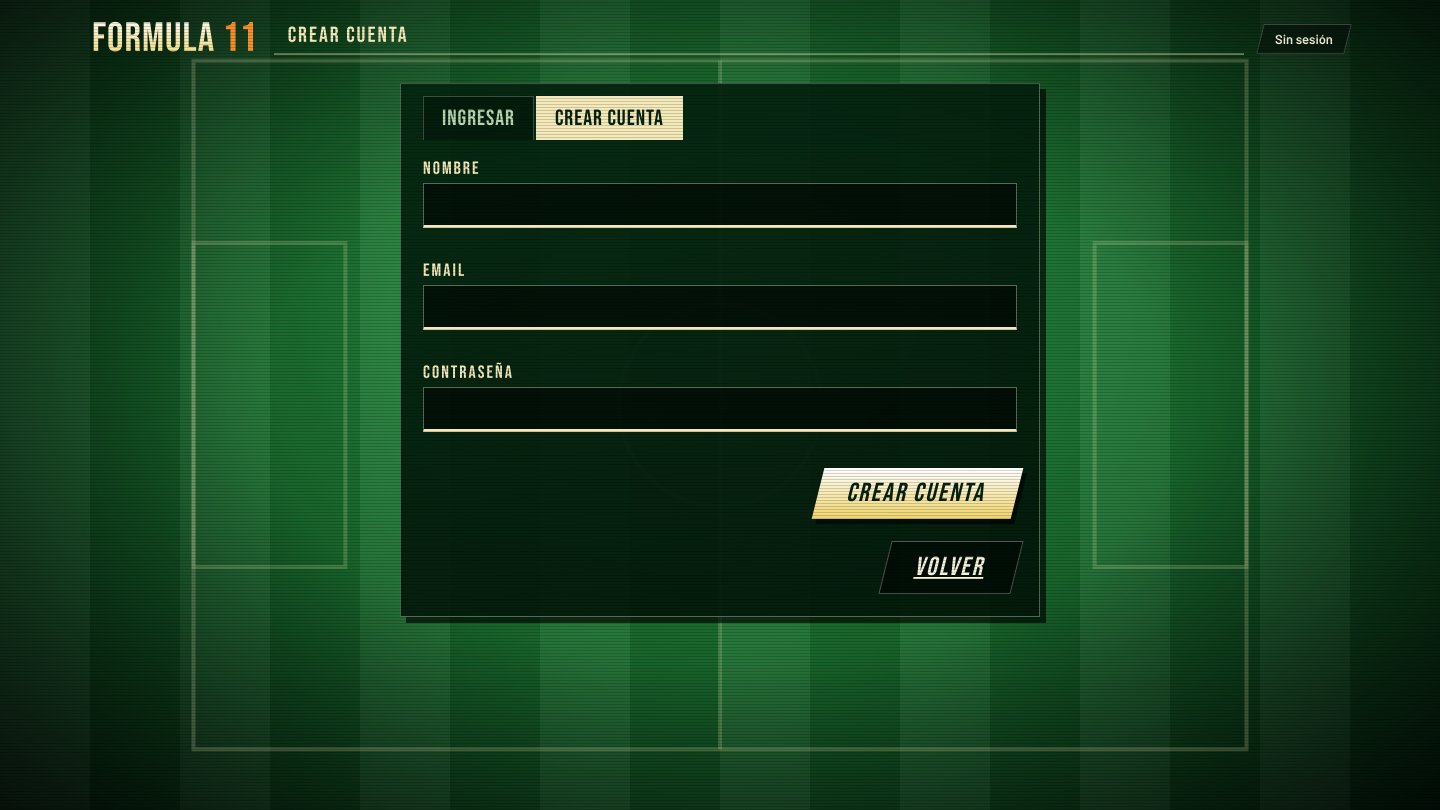
Test: registro › muestra la cuenta creada sin token y deja la sesión iniciada
Type "Ana" into the field labelled "Nombre" at {"x": 720, "y": 206}, box [423,183,1017,228]
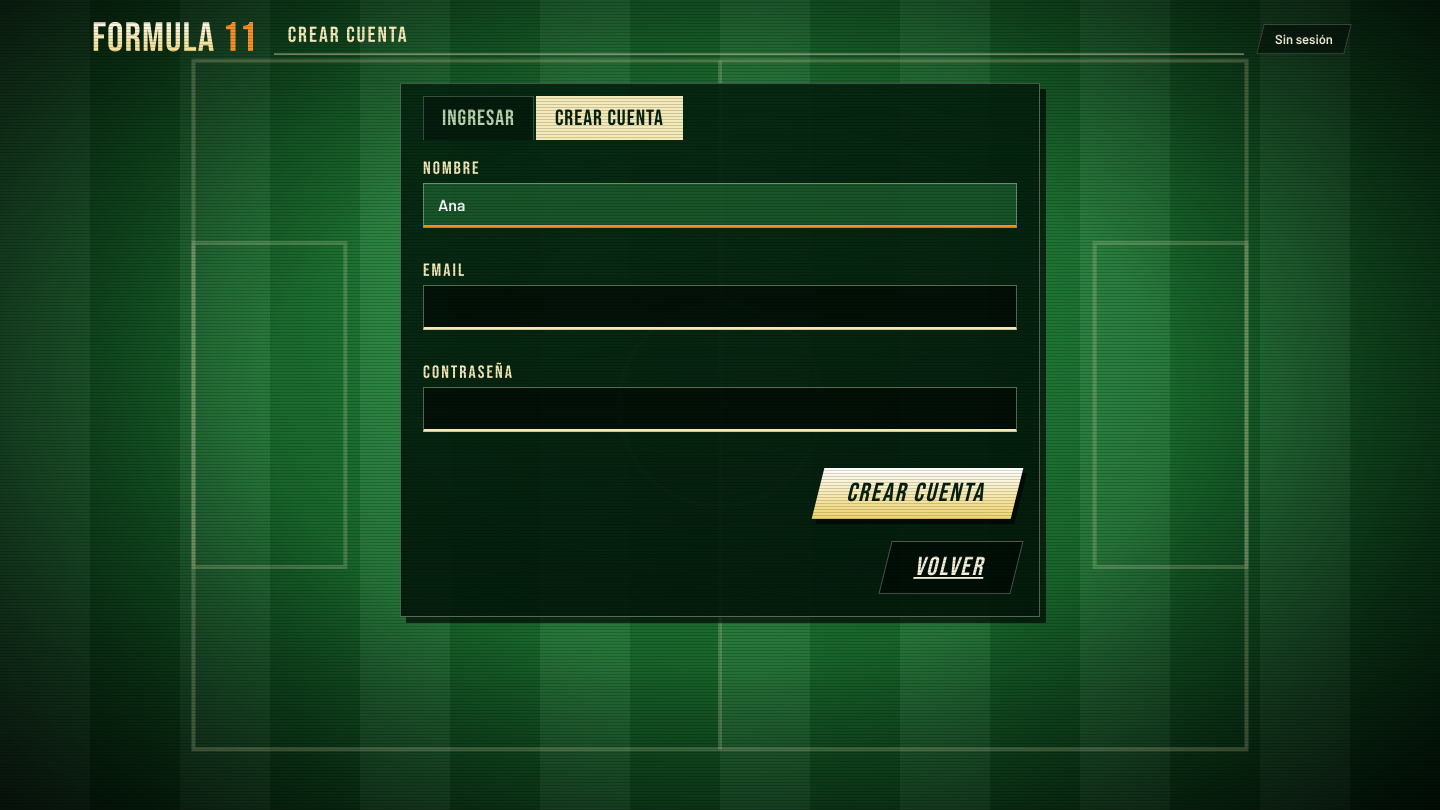
Type "ana@example.com" into the field labelled "Email" at {"x": 720, "y": 308}, box [423,285,1017,330]
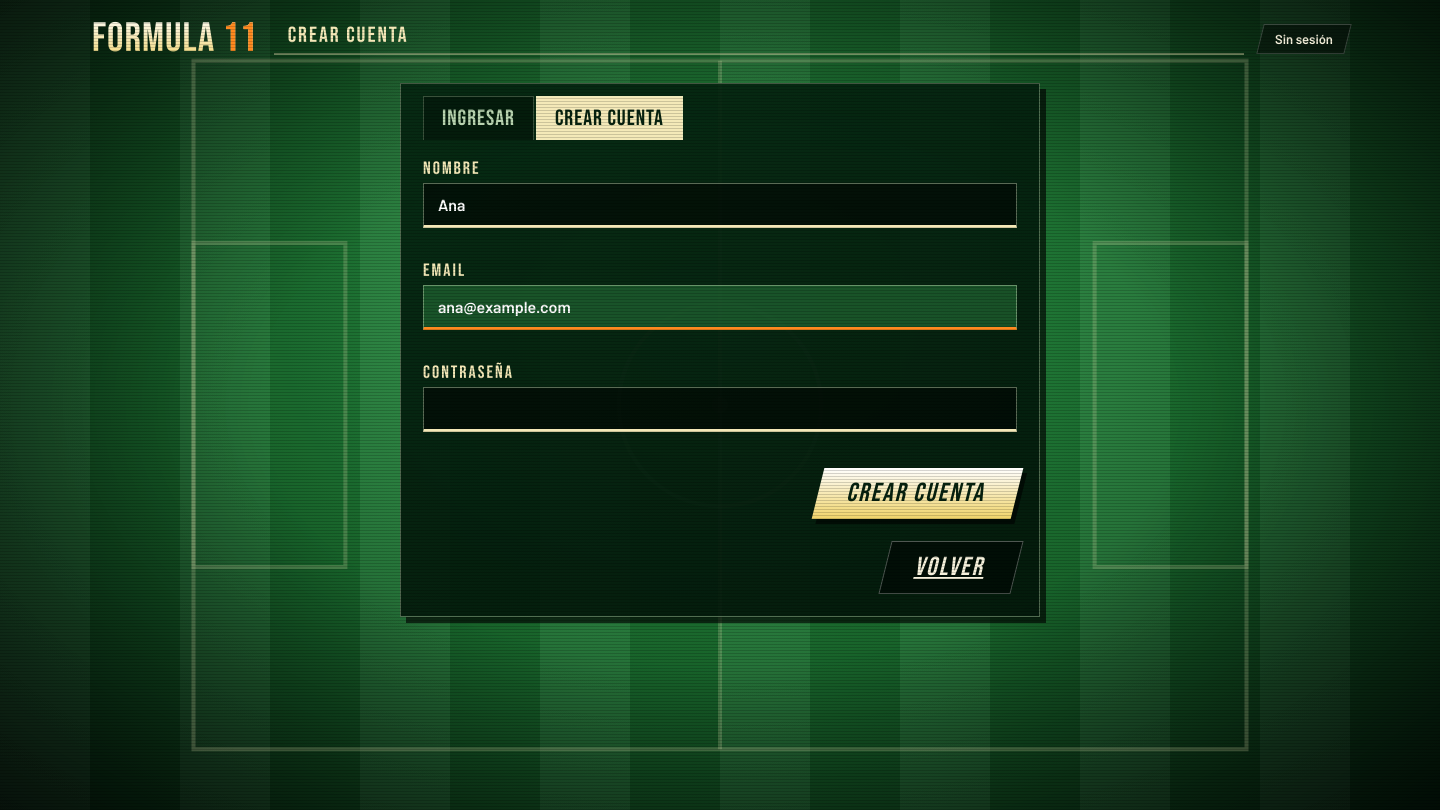
Type "Secreto123!" into the password field labelled "Contraseña" at {"x": 720, "y": 410}, box [423,387,1017,432]
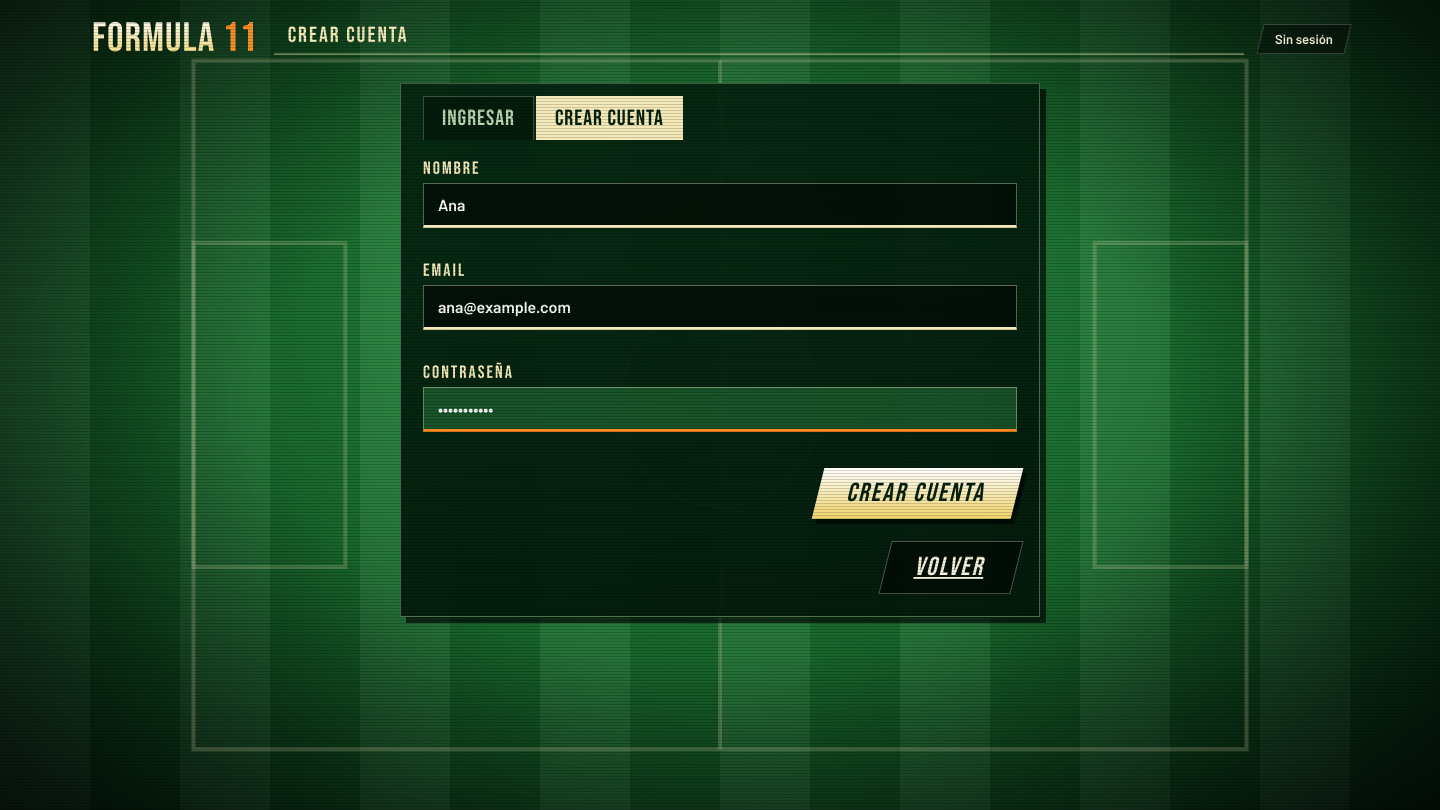
Click the button "Crear cuenta" at {"x": 918, "y": 494}, box [812,468,1023,519]
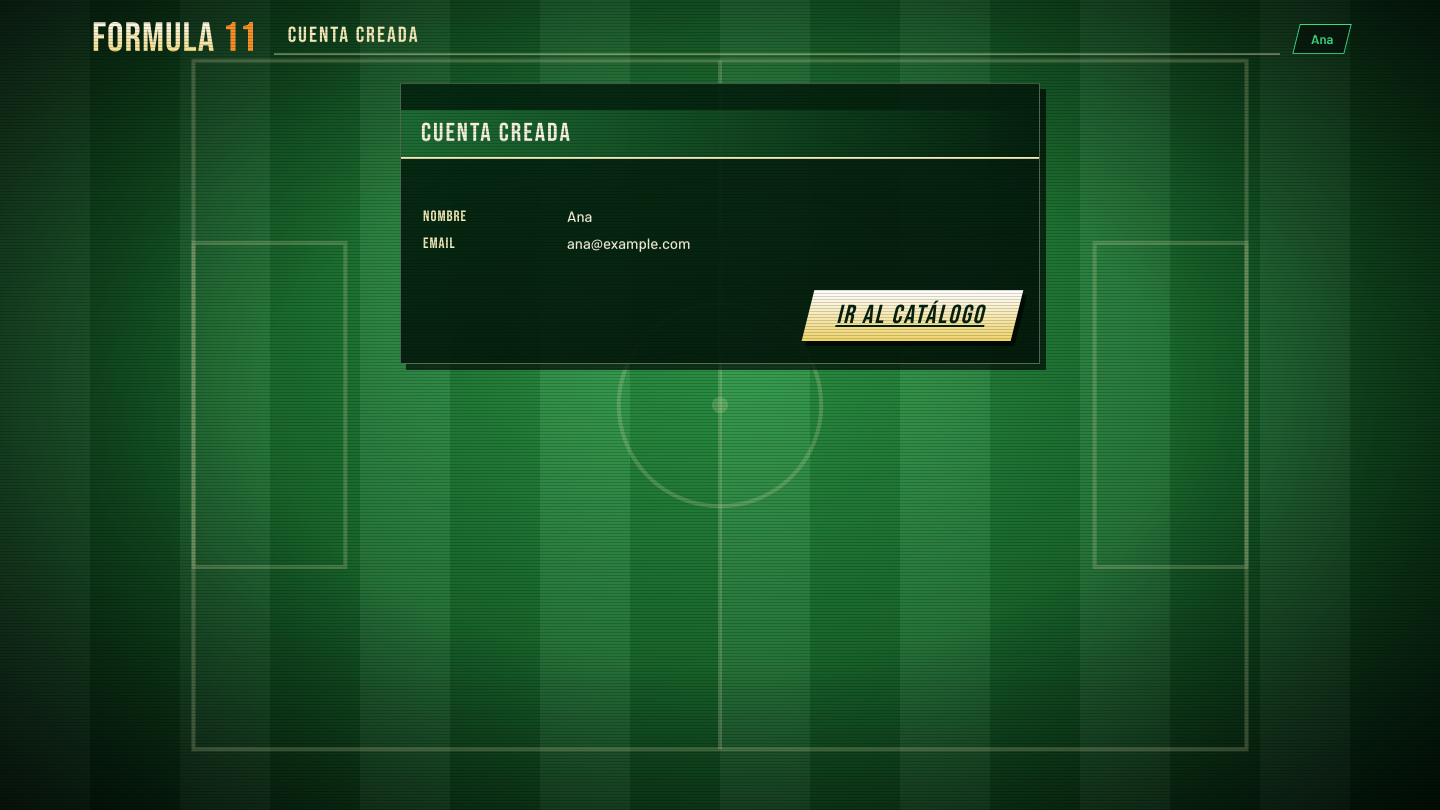
Expected: the text "Ana" is shown 2 times, [1311,30,1333,46]; [567,207,592,225]
Result: the heading "Cuenta creada" is shown at [401,110,1039,159]
Result: the link "Ir al catálogo" is shown at [802,290,1023,341]
